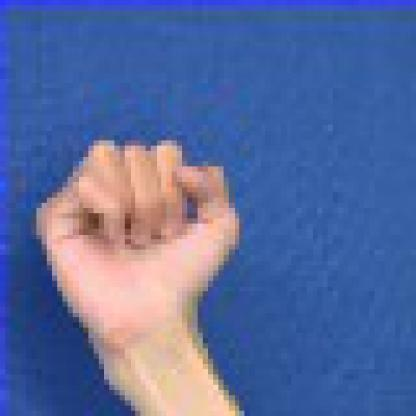zero: (26, 130, 248, 363)
